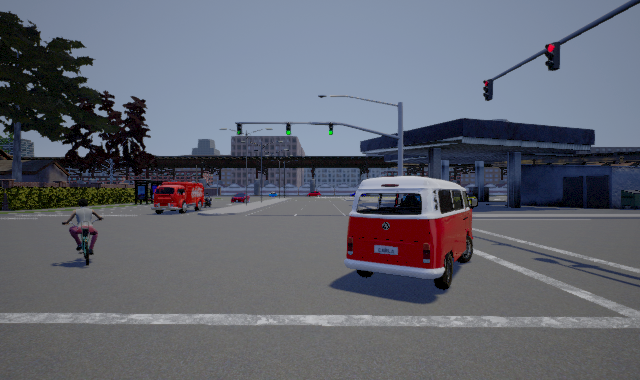bike: (63, 200, 105, 266)
traffic_light: (545, 42, 560, 71), (483, 79, 493, 101), (286, 122, 291, 135), (237, 123, 242, 135), (329, 122, 333, 135)
vehicle: (344, 176, 478, 290), (151, 182, 212, 214), (230, 190, 254, 205)
